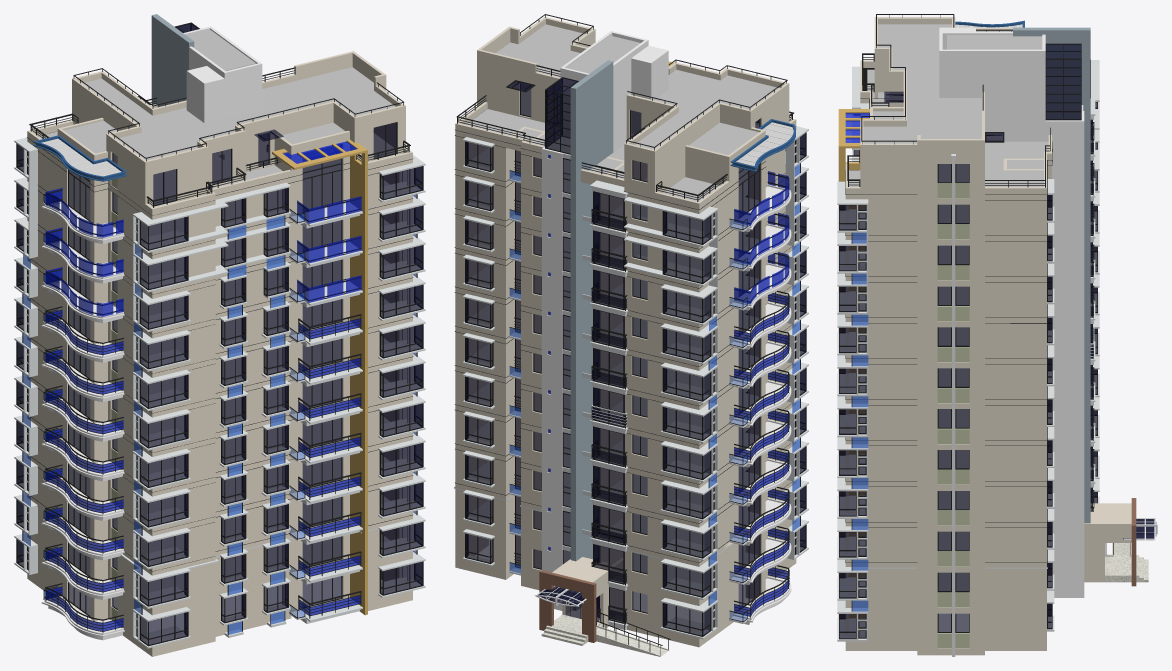
File: businessbuild.FBX
The picture shows the model from 3 angles, left to right: view 1: azimuth 30°, elevation 25°; view 2: azimuth 150°, elevation 25°; view 3: azimuth 270°, elevation 25°; orthographic projection. The views are drawn at different scales.
Parts seen in each view (by area): view 1: Line56, Arc02, Arc01, Line98, Line02, Line43, Line68, Arc15, Line41, Box01, Line40, Rectangle49 (+4 smaller); view 2: Line56, Arc02, Arc01, Line98, Line43, Line41, Line02, Arc15, Rectangle49, Line68, Line40, Circle01 (+4 smaller); view 3: Line56, Line41, Line43, Arc01, Arc02, Line98, Rectangle49, Line02, Rectangle46, Arc15, Circle01, Line40 (+3 smaller).
Part boxes in pixels (x1=…): Line56: x1=27, y1=71, x2=412, y2=575; Arc02: x1=17, y1=23, x2=422, y2=644; Arc01: x1=14, y1=137, x2=425, y2=648; Line98: x1=38, y1=29, x2=395, y2=592; Line02: x1=16, y1=122, x2=423, y2=646; Line43: x1=41, y1=26, x2=305, y2=640; Line68: x1=45, y1=141, x2=361, y2=631; Arc15: x1=29, y1=22, x2=410, y2=634; Line41: x1=27, y1=51, x2=412, y2=656; Box01: x1=272, y1=139, x2=367, y2=615; Line40: x1=23, y1=194, x2=416, y2=634; Rectangle49: x1=151, y1=14, x2=194, y2=107; Line56: x1=455, y1=17, x2=796, y2=566; Arc02: x1=466, y1=78, x2=805, y2=635; Arc01: x1=454, y1=126, x2=808, y2=639; Line98: x1=466, y1=24, x2=778, y2=583; Line43: x1=541, y1=31, x2=793, y2=624; Line41: x1=455, y1=26, x2=796, y2=647; Line02: x1=465, y1=118, x2=806, y2=636; Arc15: x1=456, y1=14, x2=800, y2=655; Rectangle49: x1=570, y1=60, x2=613, y2=610; Line68: x1=548, y1=154, x2=789, y2=615; Line40: x1=509, y1=164, x2=800, y2=621; Circle01: x1=454, y1=112, x2=795, y2=618; Line56: x1=845, y1=17, x2=1051, y2=566; Line41: x1=845, y1=92, x2=1131, y2=655; Line43: x1=939, y1=24, x2=1084, y2=597; Arc01: x1=837, y1=60, x2=1157, y2=656; Arc02: x1=839, y1=44, x2=1154, y2=638; Line98: x1=849, y1=24, x2=1048, y2=590; Rectangle49: x1=1013, y1=27, x2=1090, y2=523; Line02: x1=839, y1=102, x2=1097, y2=639; Rectangle46: x1=937, y1=183, x2=969, y2=648; Arc15: x1=847, y1=14, x2=1130, y2=554; Circle01: x1=845, y1=60, x2=1090, y2=567; Line40: x1=852, y1=232, x2=868, y2=611.
Size of the model in its own units: 2265 by 3775 by 1987.
